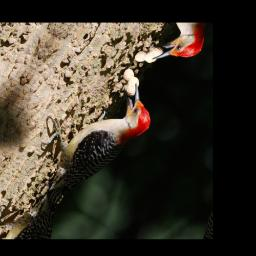Woodpecker: (9, 54, 167, 215)
